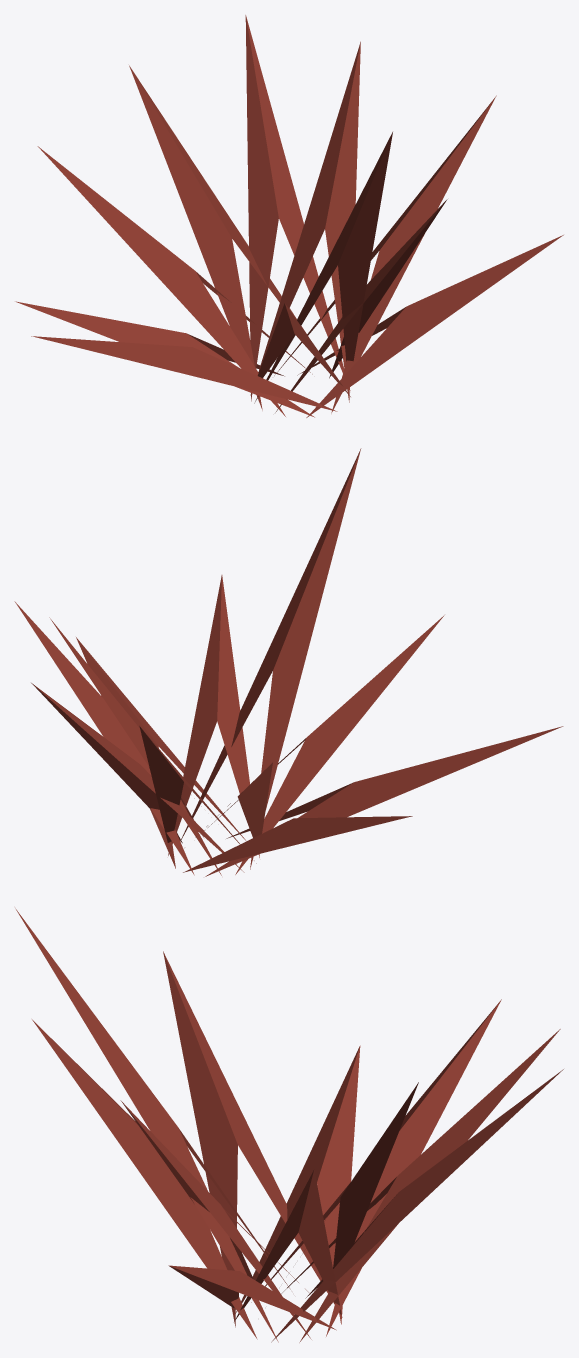
Rendered from croton.glb.
3 views of the same model, one above another, from view 1: azimuth 30°, elevation 25°; view 2: azimuth 150°, elevation 25°; view 3: azimuth 270°, elevation 25° (orthographic). The views are drawn at different scales.
Visible parts, largest first — view 1: croton; view 2: croton; view 3: croton.
Part boxes in pixels (x1,y1,x2,y2): croton: (15, 15, 563, 417); croton: (14, 448, 563, 876); croton: (15, 908, 563, 1342).
Size of the model in its own units: 1.09 by 0.7174 by 0.9043.
